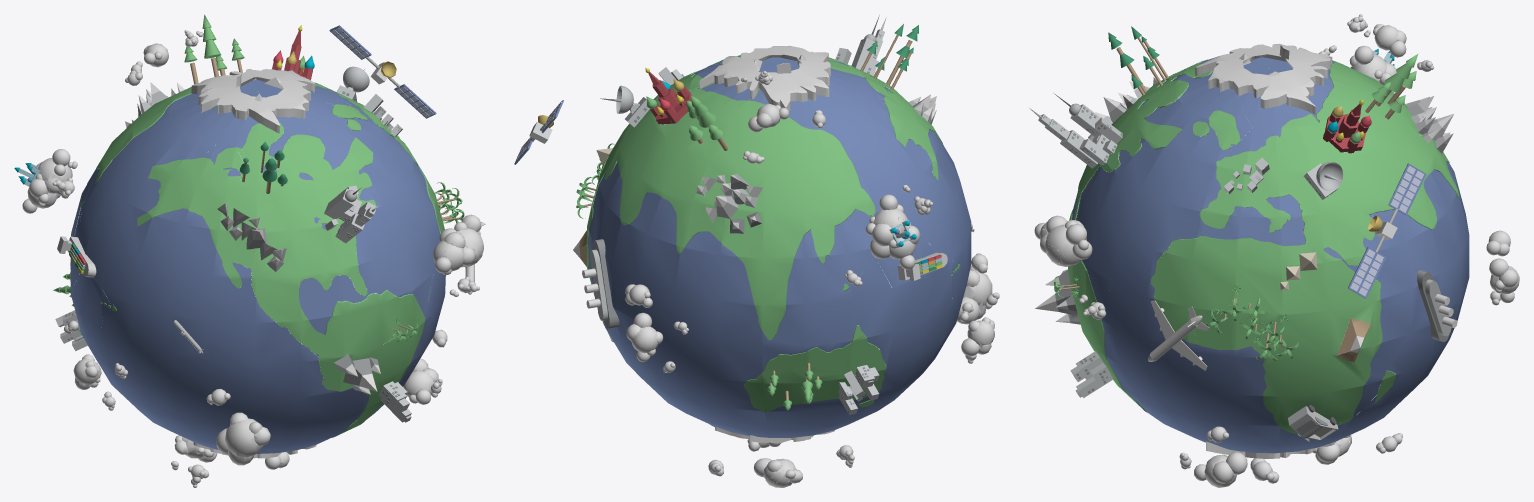
3 renders of one model, left to right at view 1: azimuth 30°, elevation 25°; view 2: azimuth 150°, elevation 25°; view 3: azimuth 270°, elevation 25°, orthographic. The views are drawn at different scales.
Visible parts, largest first — view 1: Mesh_Mesh_head_geo.001_lambert2SG.001_0; view 2: Mesh_Mesh_head_geo.001_lambert2SG.001_0; view 3: Mesh_Mesh_head_geo.001_lambert2SG.001_0.
Boxes of the visible parts, left/top/right/bottom form: Mesh_Mesh_head_geo.001_lambert2SG.001_0: left=14, top=14, right=485, bottom=487; Mesh_Mesh_head_geo.001_lambert2SG.001_0: left=514, top=15, right=999, bottom=487; Mesh_Mesh_head_geo.001_lambert2SG.001_0: left=1029, top=14, right=1519, bottom=487.
Bounding box in the file's own units: 70.53 × 68.75 × 68.47.
